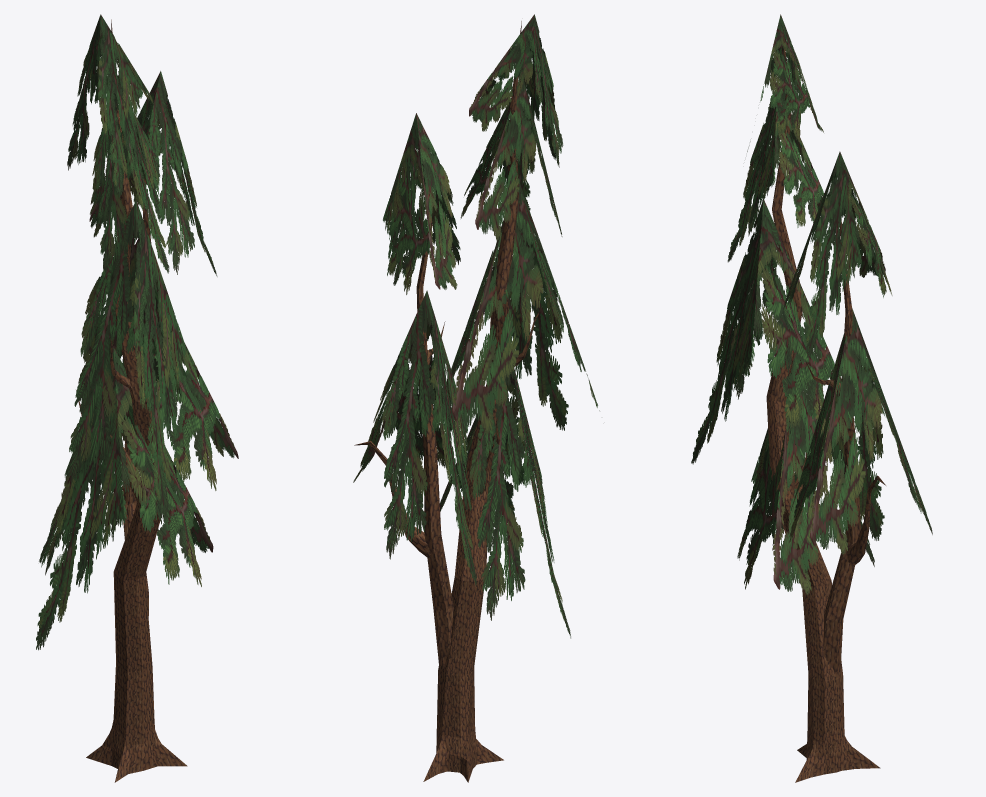
The model's file is Pine_big03.fbx.
The picture shows the model from 3 angles, left to right: view 1: azimuth 30°, elevation 25°; view 2: azimuth 150°, elevation 25°; view 3: azimuth 270°, elevation 25°; orthographic projection. The views are drawn at different scales.
Visible parts, largest first — view 1: Pine_Big03; view 2: Pine_Big03; view 3: Pine_Big03.
Boxes of the visible parts, bbox=[...] form: Pine_Big03: bbox=[36, 14, 238, 782]; Pine_Big03: bbox=[353, 14, 599, 782]; Pine_Big03: bbox=[691, 14, 932, 782].
Bounding box in the file's own units: 12.43 × 30.79 × 11.43.
2 materials, 2 textured.
